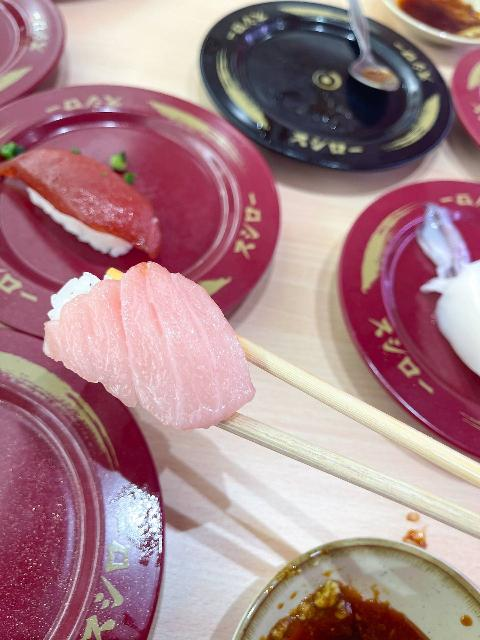janred: (3, 364, 200, 640), (26, 92, 277, 290), (219, 22, 430, 171), (368, 221, 480, 392), (0, 0, 75, 90), (448, 62, 480, 181)
